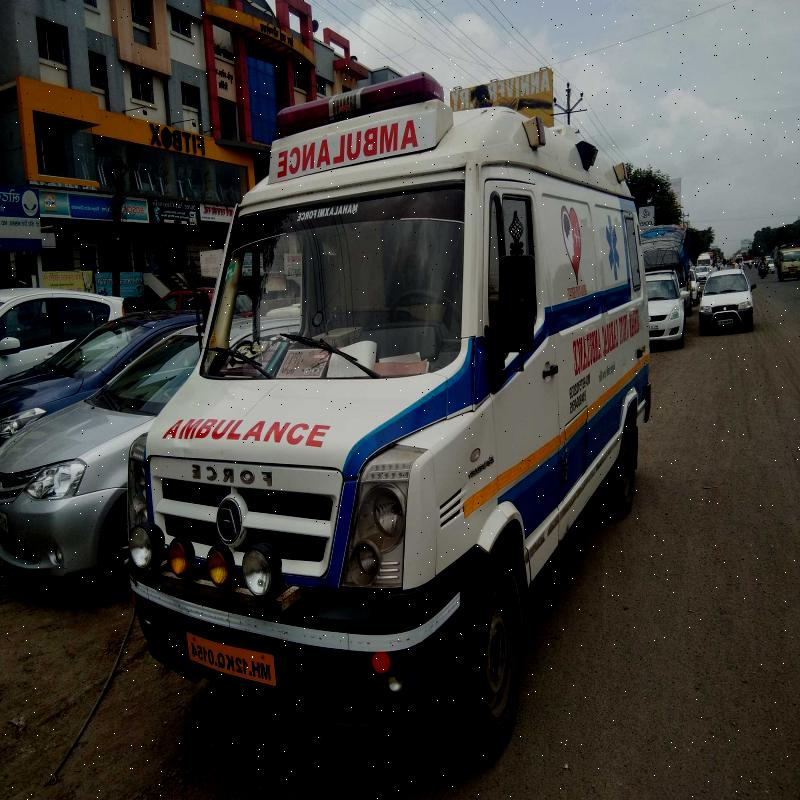ambulance: (107, 59, 671, 800)
